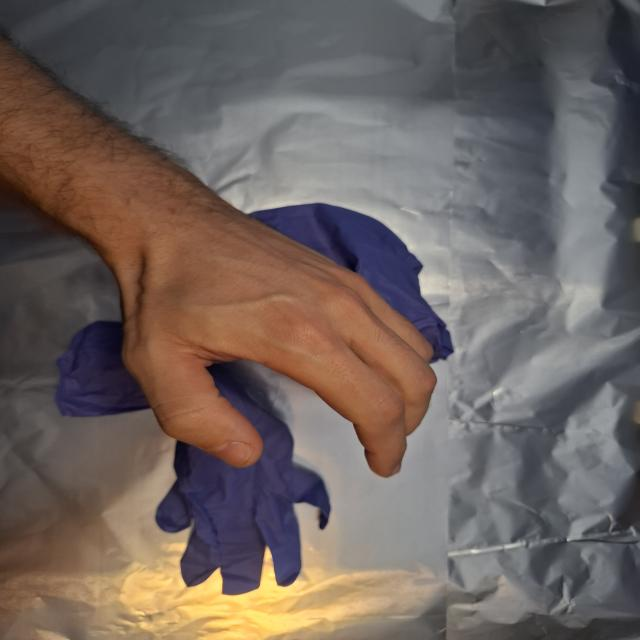glove_off: (95, 188, 440, 480)
